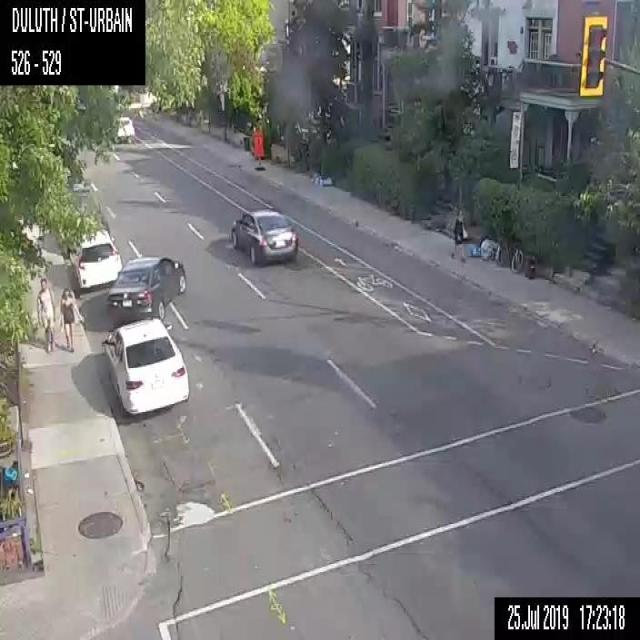construction: (252, 127, 262, 167)
pedestrian: (34, 276, 54, 353), (449, 209, 469, 264), (59, 287, 74, 352)
vehicle: (102, 317, 190, 416), (108, 254, 186, 314), (229, 205, 298, 267), (69, 230, 123, 291), (112, 115, 134, 141)
